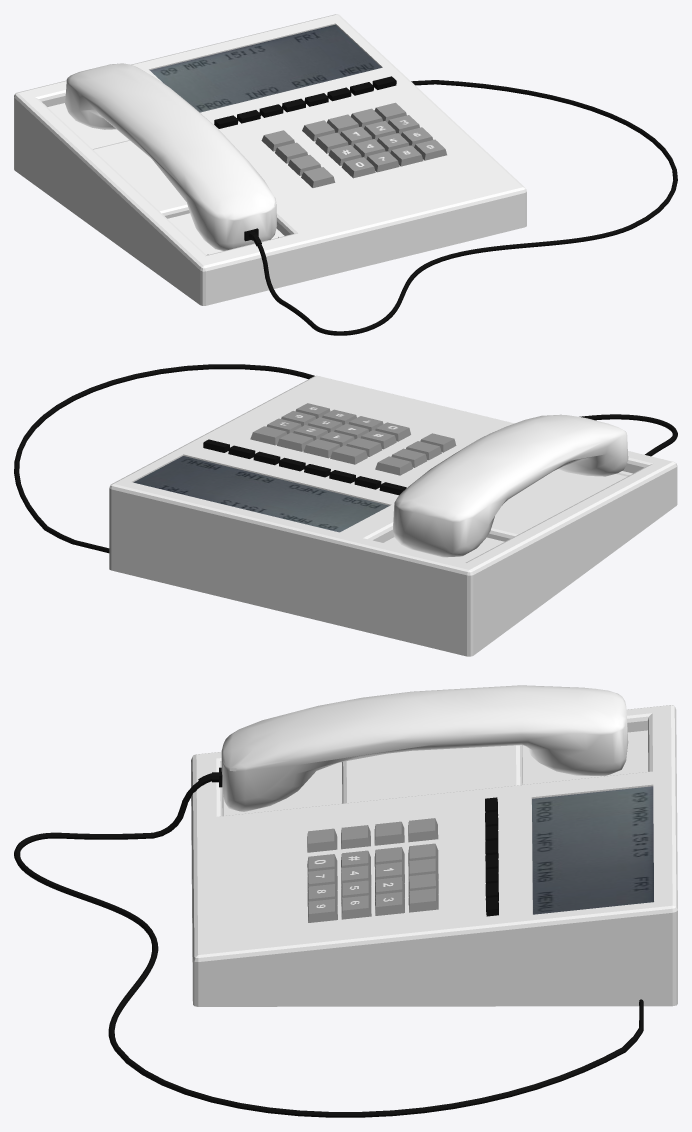
Rendered from Phone 1.FBX.
3 views of the same model, one above another, from view 1: azimuth 30°, elevation 25°; view 2: azimuth 150°, elevation 25°; view 3: azimuth 270°, elevation 25° (orthographic). The views are drawn at different scales.
Parts seen in each view (by area): view 1: phone; view 2: phone; view 3: phone.
Boxes of the visible parts, x1,y1,x2,y2 form: phone: (14,14,677,335); phone: (14,364,677,656); phone: (14,685,677,1117).
Size of the model in its own units: 297 by 61.11 by 261.
Materials: 1 (1 with a texture image).
